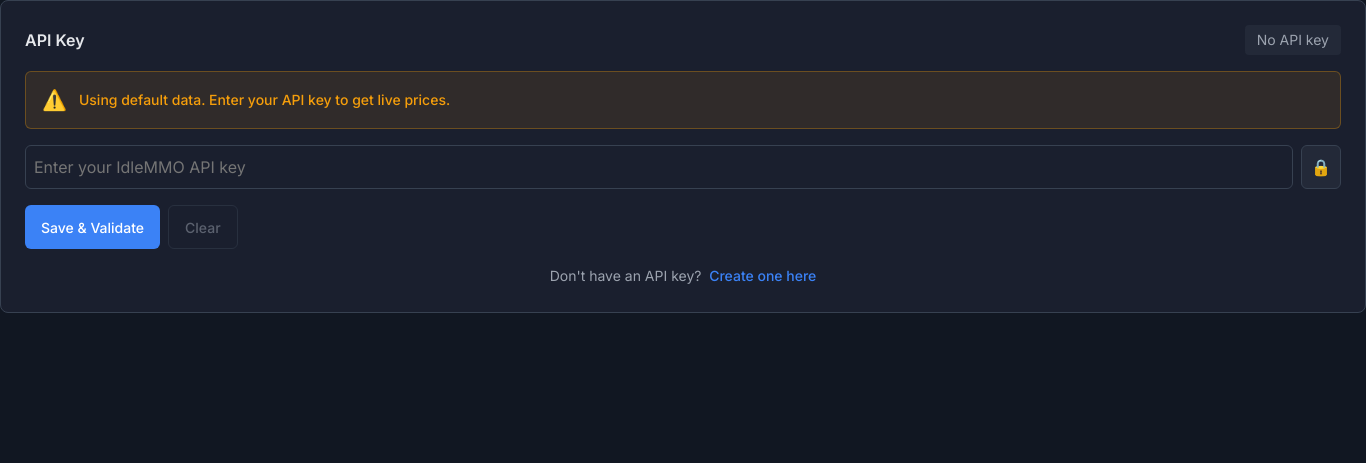
Test case: ApiKeyInput › should show rate limit status
The width and height of the screenshot is (1366, 463).
Type "test-api-key" into the password field with class "key-input" at (659,167), box [25,145,1293,189]
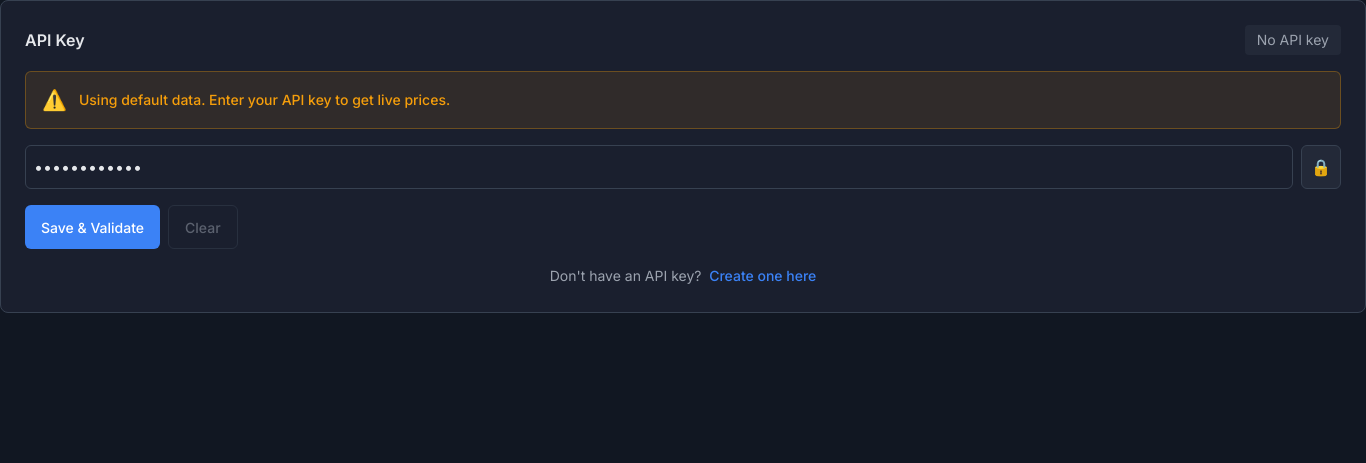
Click the button with class "btn-save" at (92,227), box [25,205,160,249]
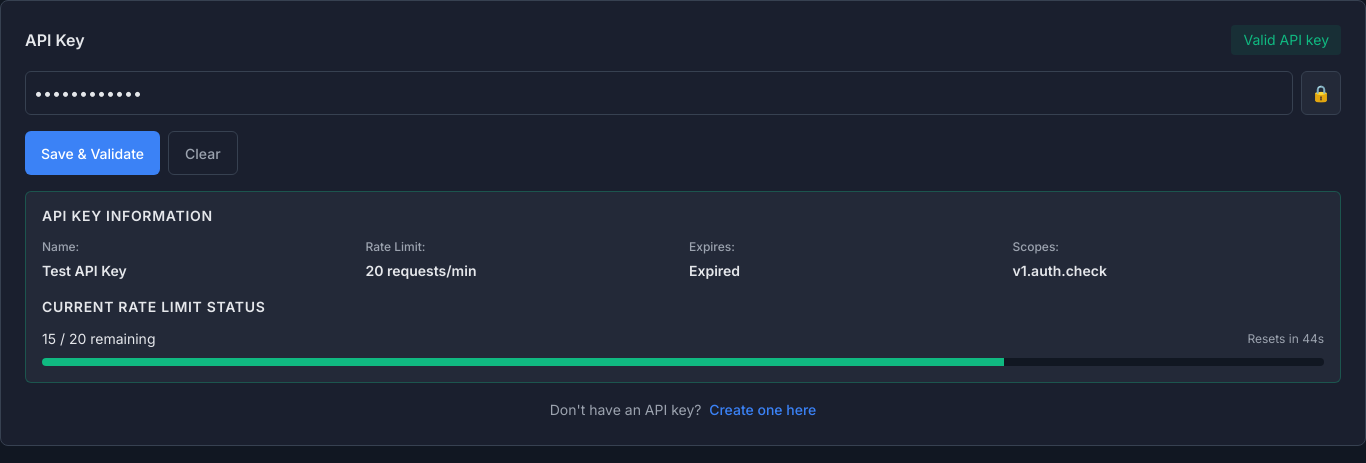
Now the text "15 / 20 remaining" is shown, box [42,328,156,350]
Now the text "Resets in" is shown, box [1247,331,1324,346]
